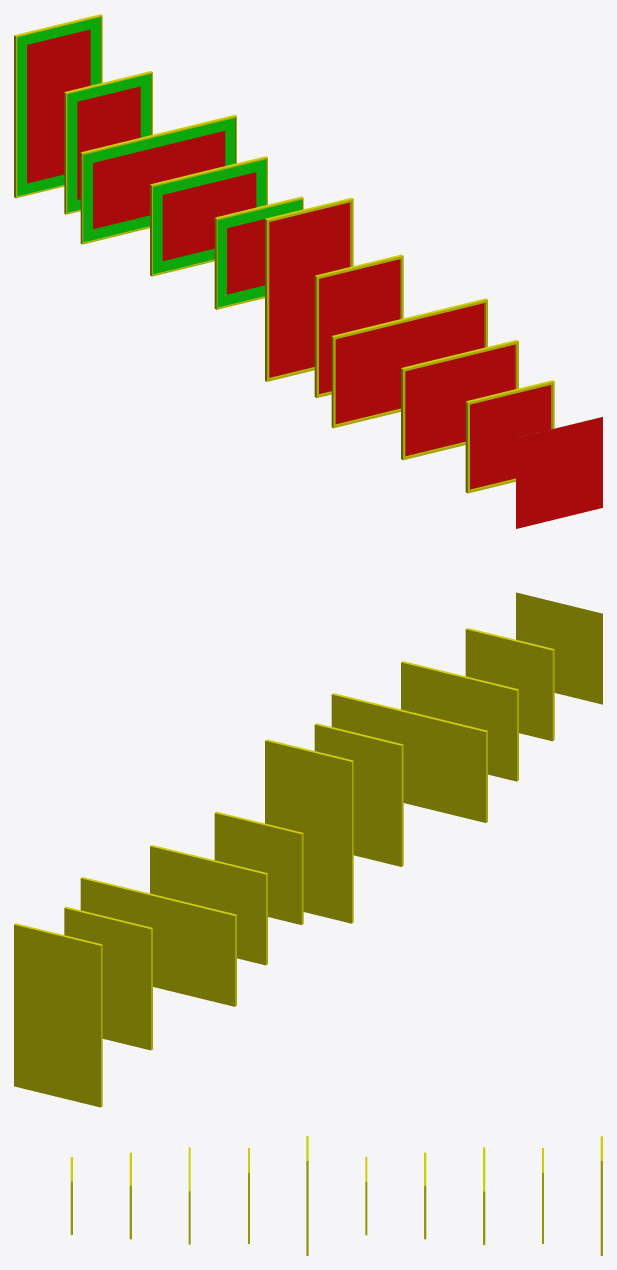
The model's file is RoboTHOR_wall_decor_grp.fbx.
The picture shows the model from 3 angles, top to bottom: view 1: azimuth 30°, elevation 25°; view 2: azimuth 150°, elevation 25°; view 3: azimuth 270°, elevation 25°; orthographic projection. The views are drawn at different scales.
Parts seen in each view (by area): view 1: robothor_wall_decor_inset_9_16, robothor_wall_decor_9_16, robothor_wall_decor_16_9, robothor_wall_decor_inset_16_9, robothor_wall_decor_4_3, robothor_wall_decor_inset_4_3, robothor_wall_decor_poster, robothor_wall_decor_3_4, robothor_wall_decor_inset_3_4, robothor_wall_decor_1_1, robothor_wall_decor_inset_1_1; view 2: robothor_wall_decor_inset_9_16, robothor_wall_decor_9_16, robothor_wall_decor_16_9, robothor_wall_decor_inset_16_9, robothor_wall_decor_3_4, robothor_wall_decor_inset_3_4, robothor_wall_decor_4_3, robothor_wall_decor_inset_4_3, robothor_wall_decor_poster, robothor_wall_decor_inset_1_1, robothor_wall_decor_1_1; view 3: robothor_wall_decor_9_16, robothor_wall_decor_inset_9_16, robothor_wall_decor_16_9, robothor_wall_decor_inset_16_9, robothor_wall_decor_4_3, robothor_wall_decor_inset_4_3, robothor_wall_decor_inset_1_1, robothor_wall_decor_1_1, robothor_wall_decor_3_4, robothor_wall_decor_inset_3_4.
Boxes of the visible parts, box(x1,y1,x2,y2) form: robothor_wall_decor_inset_9_16: box(14, 14, 102, 198); robothor_wall_decor_9_16: box(265, 197, 353, 381); robothor_wall_decor_16_9: box(331, 298, 487, 428); robothor_wall_decor_inset_16_9: box(80, 114, 236, 244); robothor_wall_decor_4_3: box(401, 340, 518, 460); robothor_wall_decor_inset_4_3: box(150, 156, 267, 276); robothor_wall_decor_poster: box(516, 417, 602, 528); robothor_wall_decor_3_4: box(314, 254, 403, 397); robothor_wall_decor_inset_3_4: box(64, 71, 152, 214); robothor_wall_decor_1_1: box(465, 380, 554, 493); robothor_wall_decor_inset_1_1: box(214, 196, 303, 309); robothor_wall_decor_inset_9_16: box(14, 923, 102, 1107); robothor_wall_decor_9_16: box(265, 739, 353, 923); robothor_wall_decor_16_9: box(331, 693, 487, 822); robothor_wall_decor_inset_16_9: box(80, 877, 236, 1006); robothor_wall_decor_3_4: box(314, 723, 403, 866); robothor_wall_decor_inset_3_4: box(64, 906, 152, 1050); robothor_wall_decor_4_3: box(401, 661, 518, 781); robothor_wall_decor_inset_4_3: box(150, 845, 267, 965); robothor_wall_decor_poster: box(516, 592, 602, 704); robothor_wall_decor_inset_1_1: box(214, 811, 303, 924); robothor_wall_decor_1_1: box(465, 628, 554, 741); robothor_wall_decor_9_16: box(306, 1136, 308, 1255); robothor_wall_decor_inset_9_16: box(600, 1136, 602, 1255); robothor_wall_decor_16_9: box(188, 1147, 190, 1244); robothor_wall_decor_inset_16_9: box(483, 1147, 485, 1244); robothor_wall_decor_4_3: box(129, 1152, 131, 1239); robothor_wall_decor_inset_4_3: box(424, 1152, 426, 1239); robothor_wall_decor_inset_1_1: box(365, 1157, 367, 1235); robothor_wall_decor_1_1: box(70, 1157, 72, 1234); robothor_wall_decor_3_4: box(248, 1148, 249, 1243); robothor_wall_decor_inset_3_4: box(542, 1148, 543, 1243).
Bounding box in the file's own units: 178 × 189 × 1000.
